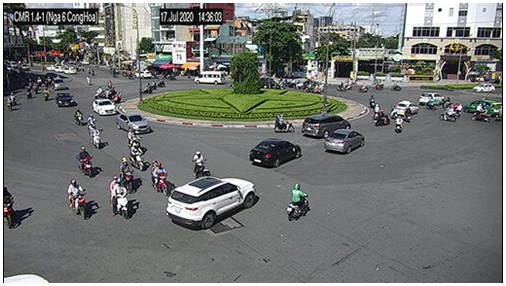xe_hoi: (167, 177, 258, 227), (250, 138, 301, 167), (303, 115, 350, 138), (325, 130, 365, 155), (115, 113, 150, 134), (461, 99, 502, 116), (91, 98, 115, 115), (395, 100, 419, 115), (420, 92, 443, 106), (55, 91, 74, 107), (474, 83, 494, 93), (51, 77, 66, 90), (135, 71, 152, 80)
xe_khach: (193, 71, 225, 84)
xe_may: (287, 183, 309, 222), (110, 176, 128, 219), (67, 179, 86, 219), (150, 160, 169, 197), (119, 156, 134, 194), (77, 146, 94, 178), (127, 127, 144, 156), (3, 187, 14, 231), (273, 113, 295, 134), (130, 140, 144, 171), (89, 122, 101, 151), (470, 107, 491, 123), (193, 151, 205, 178), (437, 107, 458, 121), (371, 109, 389, 125), (73, 107, 85, 127), (423, 97, 439, 110), (395, 115, 403, 134), (373, 79, 384, 90), (142, 82, 152, 94), (391, 81, 401, 93), (113, 91, 122, 104), (368, 94, 375, 109), (358, 83, 369, 92), (94, 85, 101, 99), (43, 86, 49, 101), (7, 96, 13, 111), (156, 79, 165, 88), (26, 87, 32, 100), (84, 76, 91, 87), (107, 80, 112, 89)
